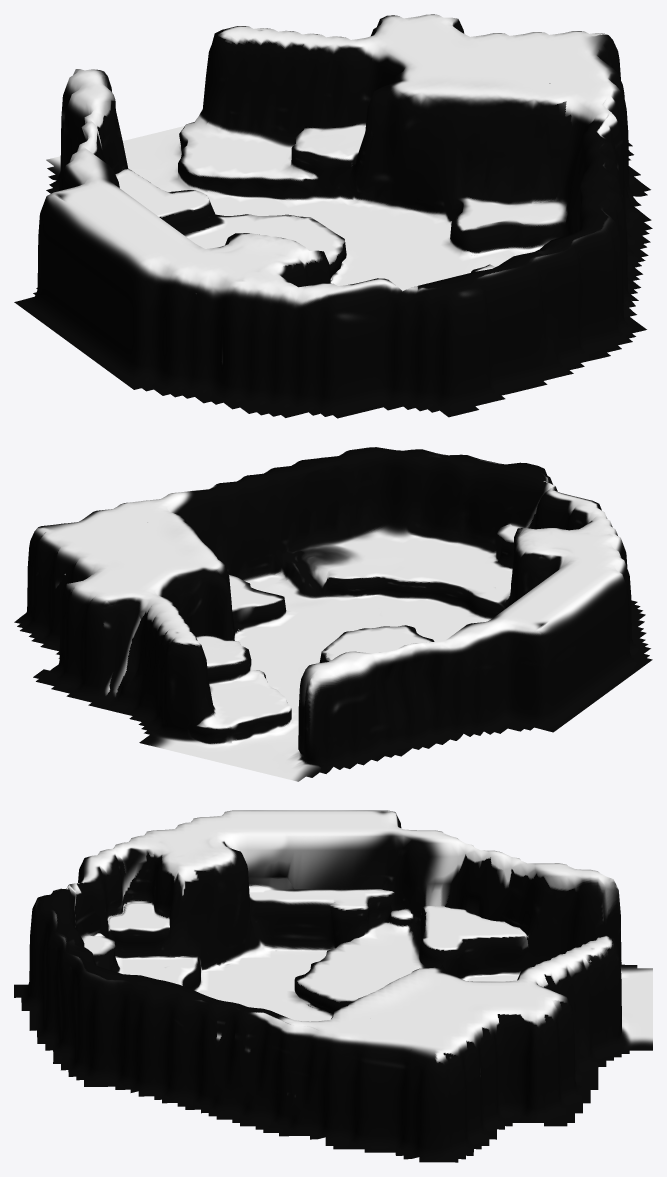
File: terrain niveau 1bis.fbx
3 renders of one model, top to bottom at view 1: azimuth 30°, elevation 25°; view 2: azimuth 150°, elevation 25°; view 3: azimuth 270°, elevation 25°, orthographic. The views are drawn at different scales.
Parts seen in each view (by area): view 1: Terrain; view 2: Terrain; view 3: Terrain.
Boxes of the visible parts, x1,y1,x2,y2 form: Terrain: (14,14,652,418); Terrain: (14,447,652,781); Terrain: (14,810,652,1162).
Size of the model in its own units: 10956 by 1909 by 11086.
